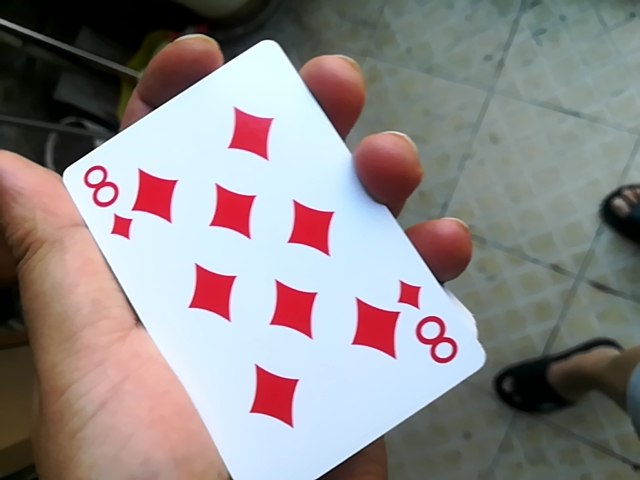fk 8: (56, 38, 460, 474)
